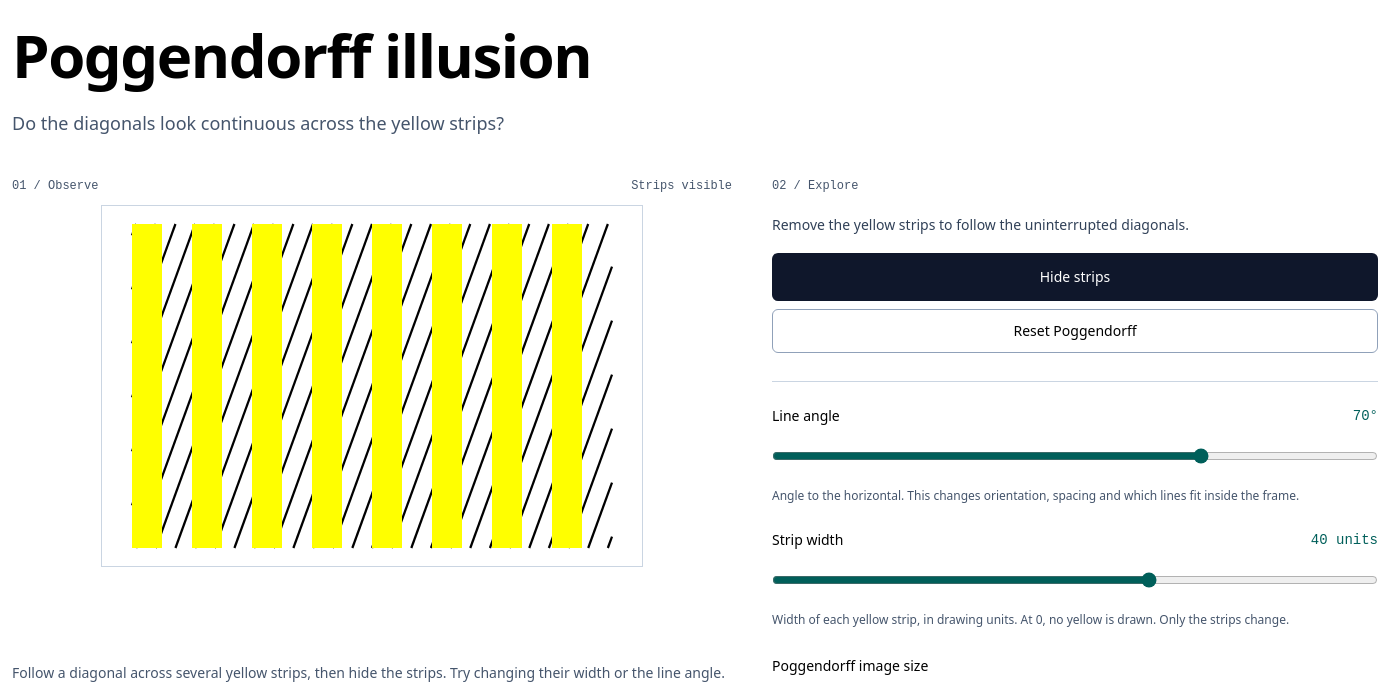
Poggendorff experience › keeps width changes context-only and permits explicit angle changes while hidden
The width and height of the screenshot is (1390, 686).
Set the slider labelled "Strip width" to "0". click: point(780, 580)
box: [772,558,1378,602]
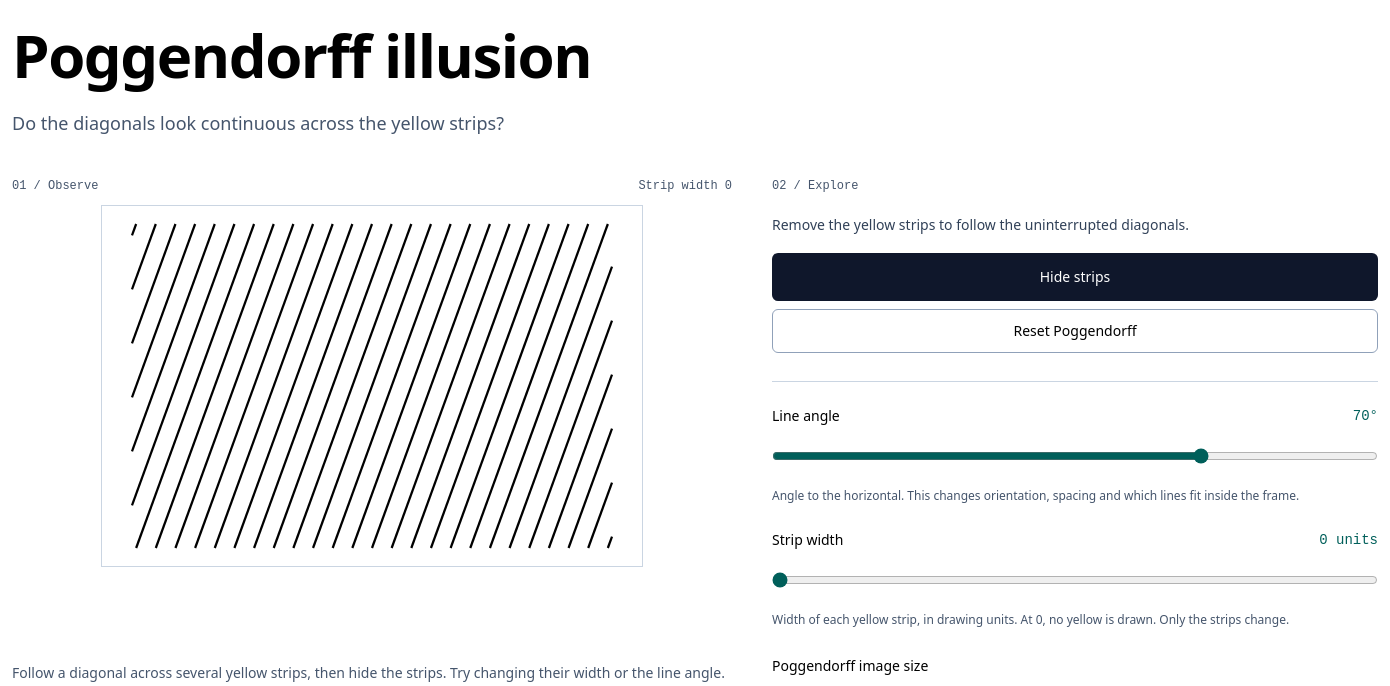
Expected: the text "Same straight diagonals. Only the yellow strips were removed." is not shown
Set the slider labelled "Strip width" to "64". click: point(1370, 580)
box: [772,558,1378,602]
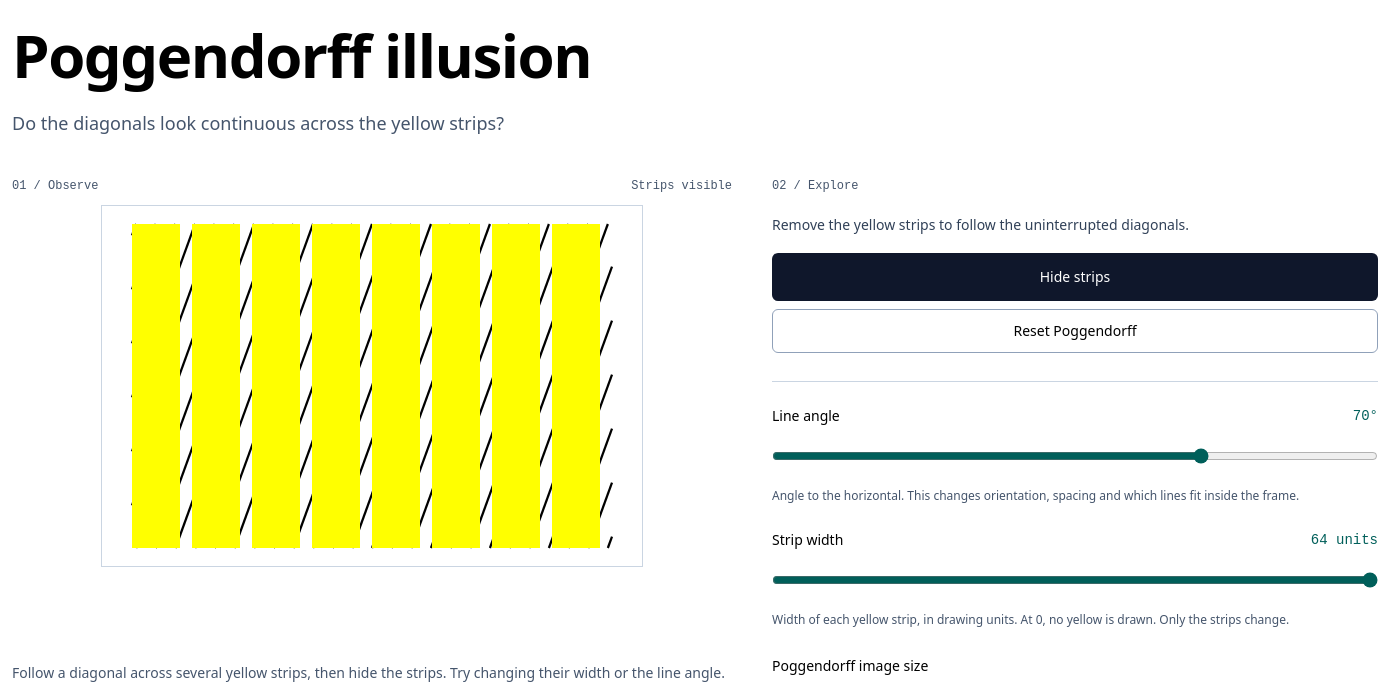
Click the button "Hide strips". click: point(1075, 277)
box: [772,253,1378,301]
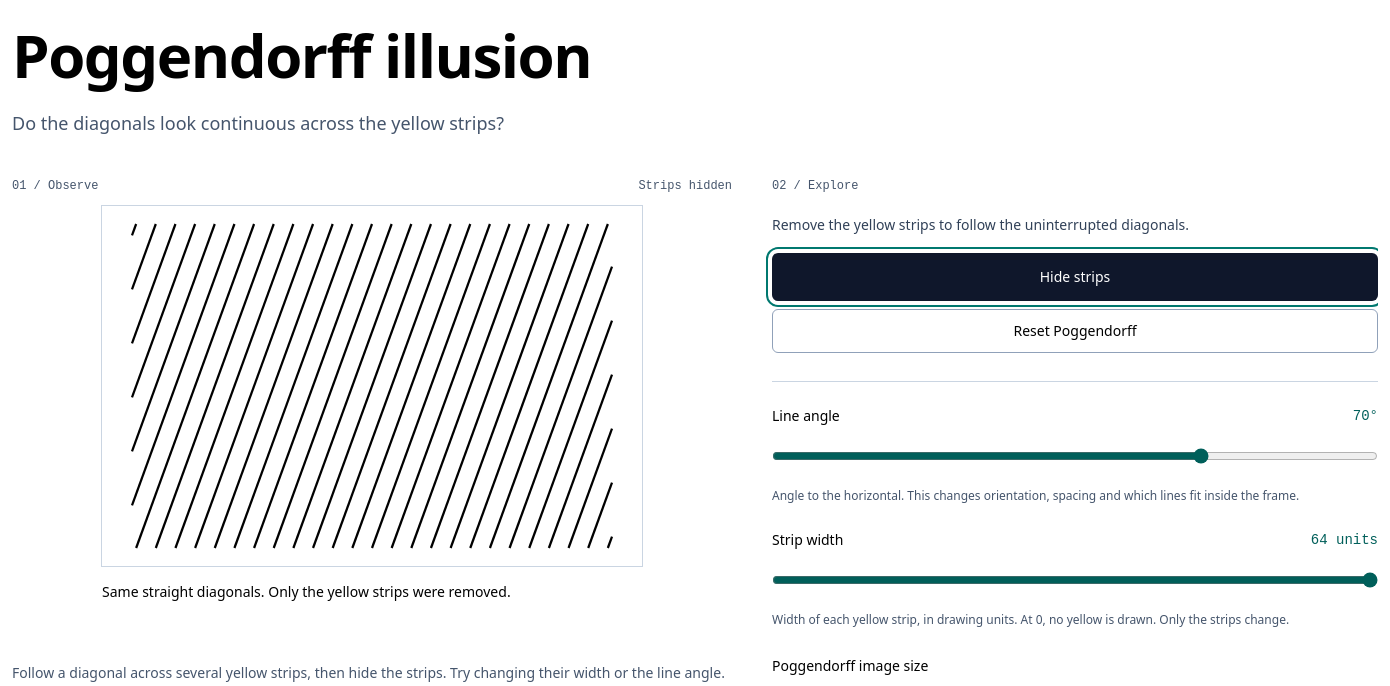
Set the slider labelled "Line angle" to "80". click: point(1370, 456)
box: [772,434,1378,478]
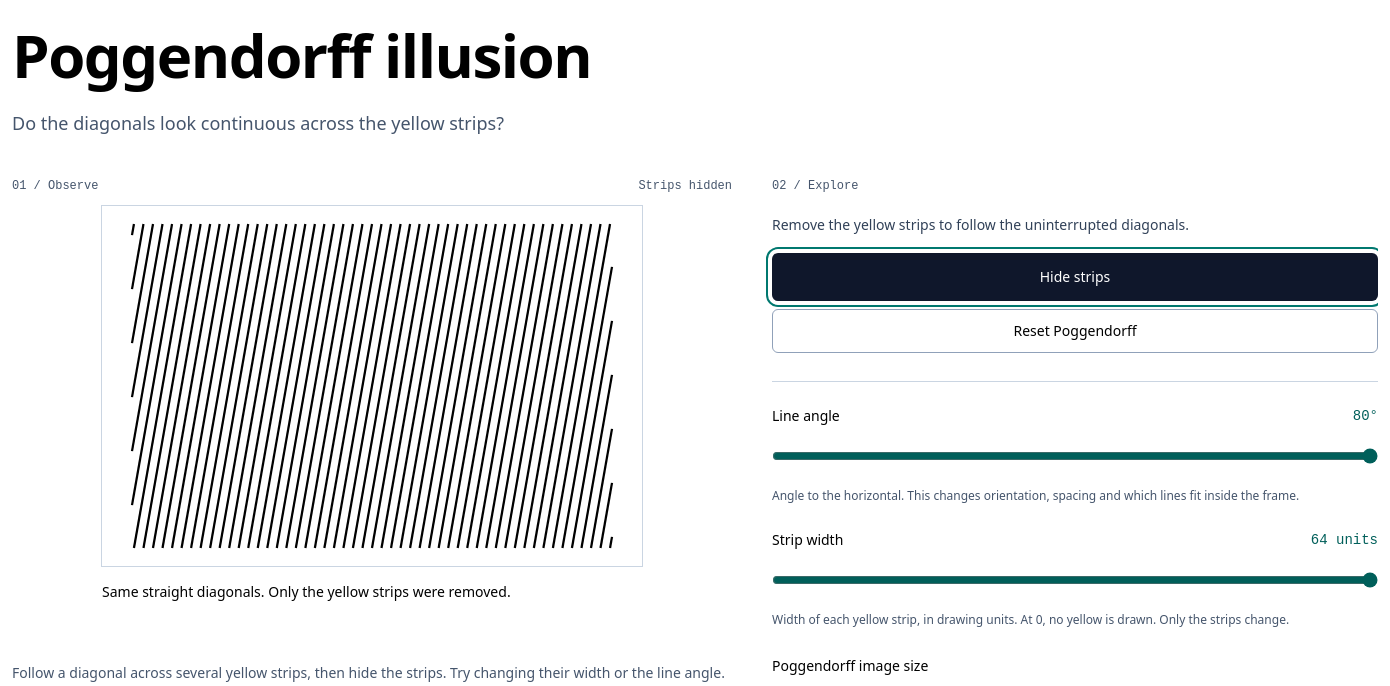
Set the slider labelled "Strip width" to "0". click: point(780, 580)
box: [772,558,1378,602]
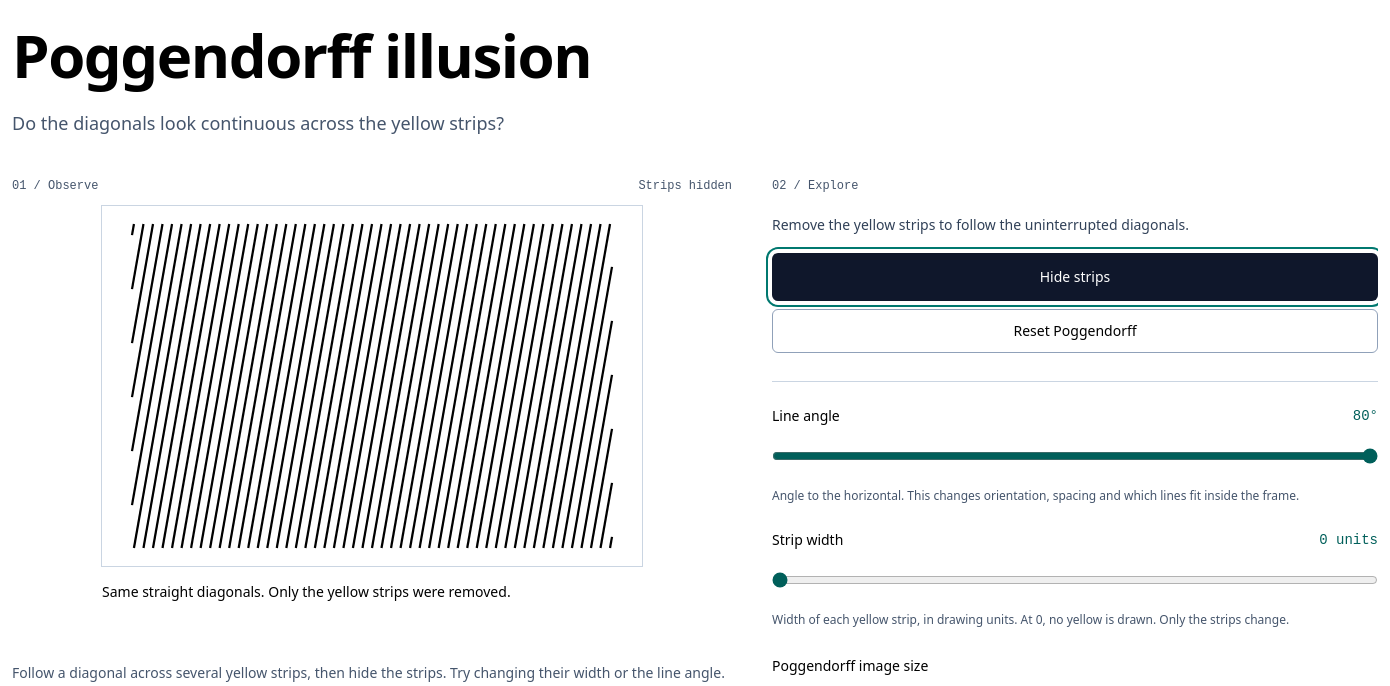
Click the button "Hide strips". click: point(1075, 277)
box: [772,253,1378,301]
(page scrolled)
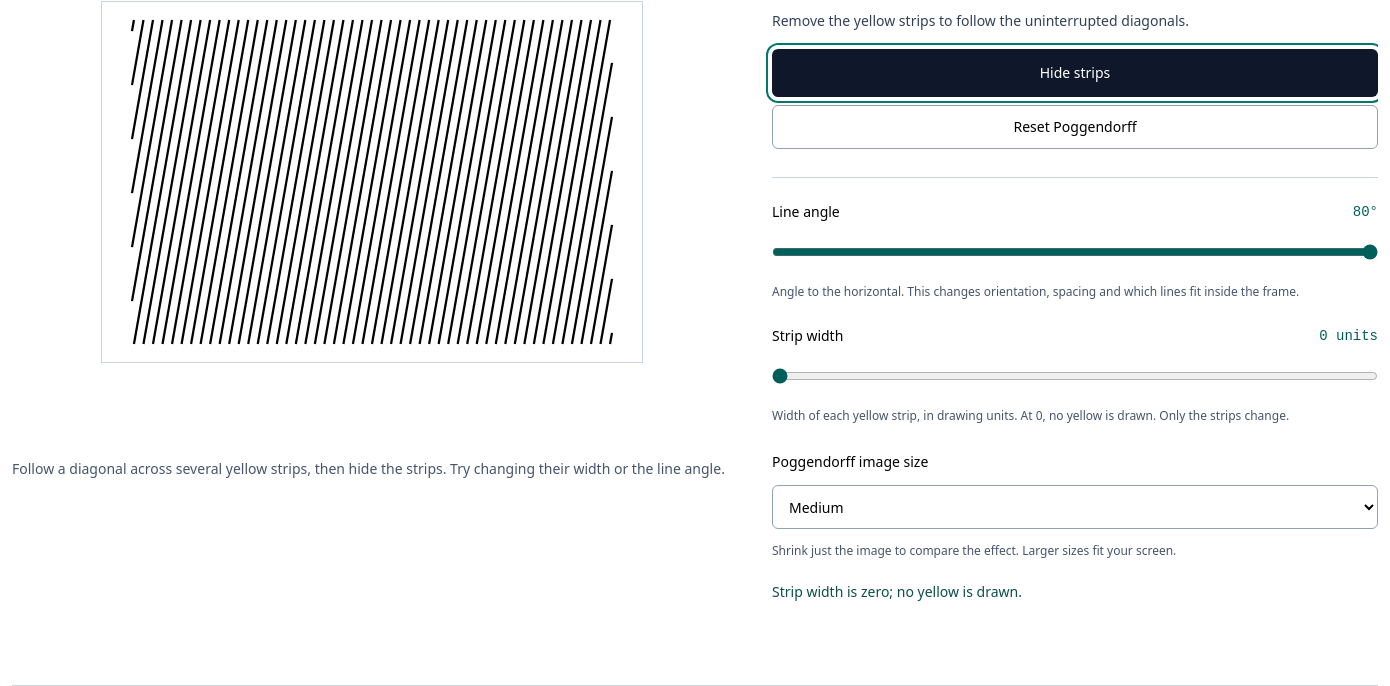
Expected: the text "Strip width is zero; no yellow is drawn." is shown, [772,582,1022,600]
